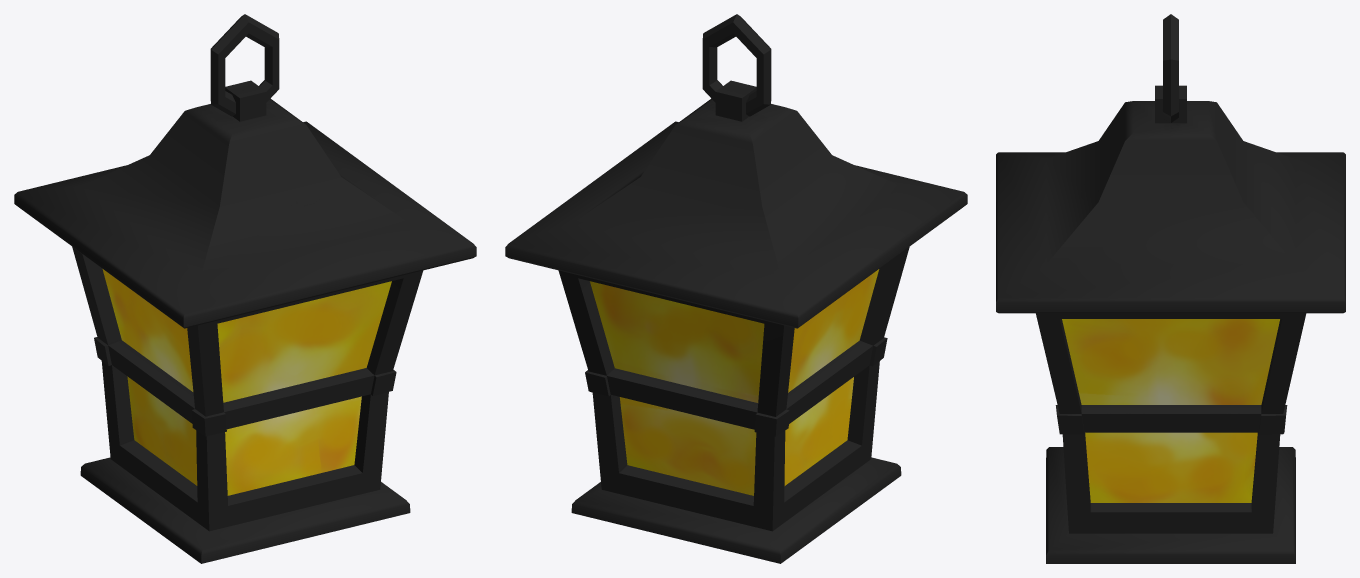
File: Lantern.fbx
3 renders of one model, left to right at view 1: azimuth 30°, elevation 25°; view 2: azimuth 150°, elevation 25°; view 3: azimuth 270°, elevation 25°, orthographic. The views are drawn at different scales.
Visible parts, largest first — view 1: Lantern_LOD0; view 2: Lantern_LOD0; view 3: Lantern_LOD0.
Part boxes in pixels (x1=…): Lantern_LOD0: x1=14, y1=14, x2=476, y2=563; Lantern_LOD0: x1=505, y1=14, x2=967, y2=563; Lantern_LOD0: x1=996, y1=14, x2=1345, y2=563.
Size of what is drawn, in the model's own units: 31.66 by 49.6 by 31.66.
1 material, 1 textured.
